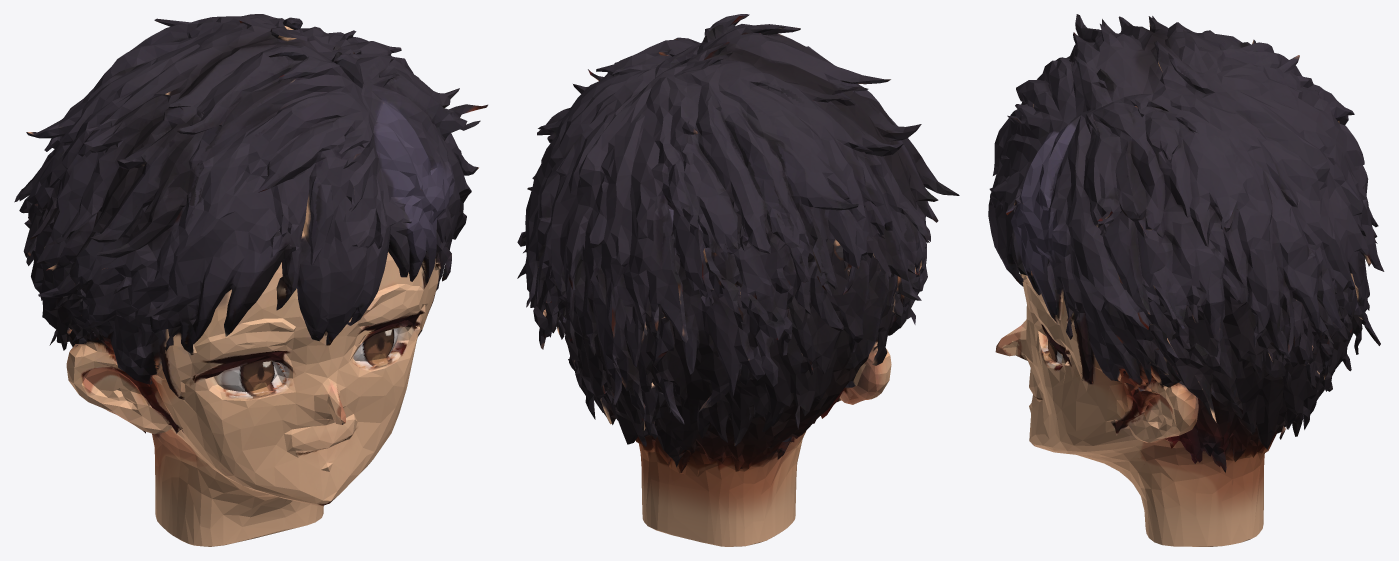
The model's file is side_crabboy_repaired_atlas.glb.
3 renders of one model, left to right at view 1: azimuth 30°, elevation 25°; view 2: azimuth 150°, elevation 25°; view 3: azimuth 270°, elevation 25°, orthographic. The views are drawn at different scales.
Visible parts, largest first — view 1: temp_mesh.ply; view 2: temp_mesh.ply; view 3: temp_mesh.ply.
Boxes of the visible parts, bbox=[...] form: temp_mesh.ply: bbox=[14, 14, 487, 546]; temp_mesh.ply: bbox=[517, 14, 959, 546]; temp_mesh.ply: bbox=[988, 14, 1384, 546].
Bounding box in the file's own units: 1.75 × 1.97 × 1.47.
Materials: 1 (1 with a texture image).
